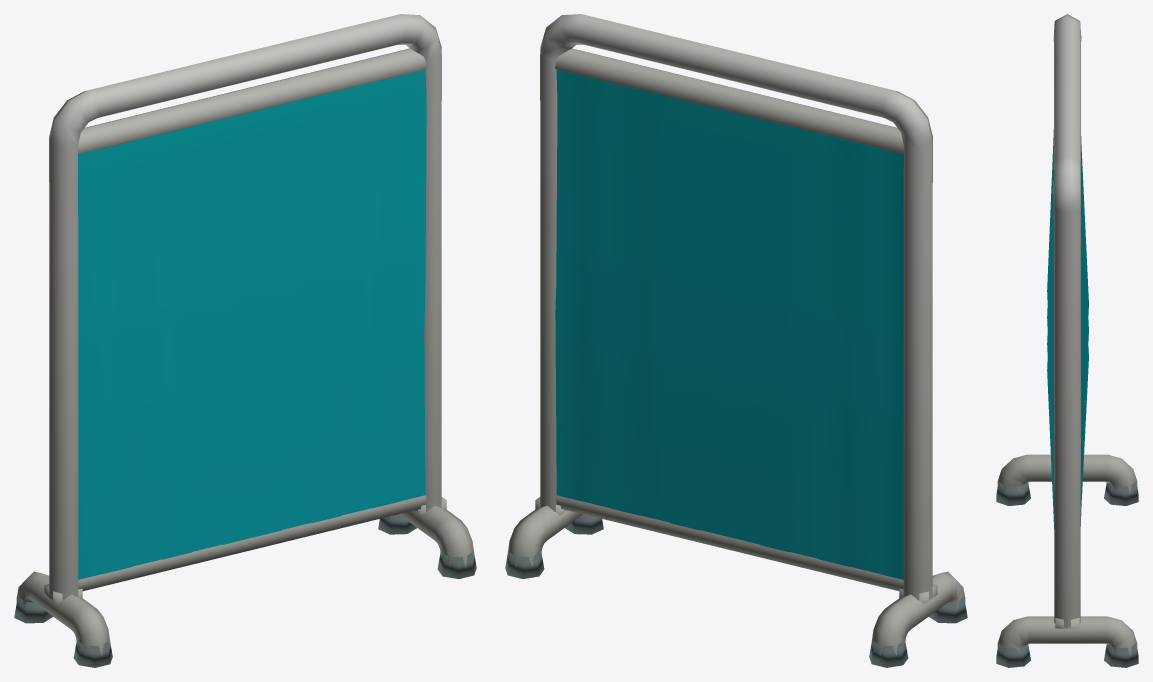
File: Pfb_JLAB_Screen.fbx
3 renders of one model, left to right at view 1: azimuth 30°, elevation 25°; view 2: azimuth 150°, elevation 25°; view 3: azimuth 270°, elevation 25°, orthographic. The views are drawn at different scales.
Visible parts, largest first — view 1: Color 1; view 2: Color 1; view 3: Color 1.
Part boxes in pixels (box(x1,y1,x2,y2)): Color 1: box(14, 14, 476, 667); Color 1: box(505, 14, 967, 667); Color 1: box(996, 14, 1138, 667).
Size of the model in its own units: 1.35 by 1.75 by 0.459.
Materials: 1 (1 with a texture image).
